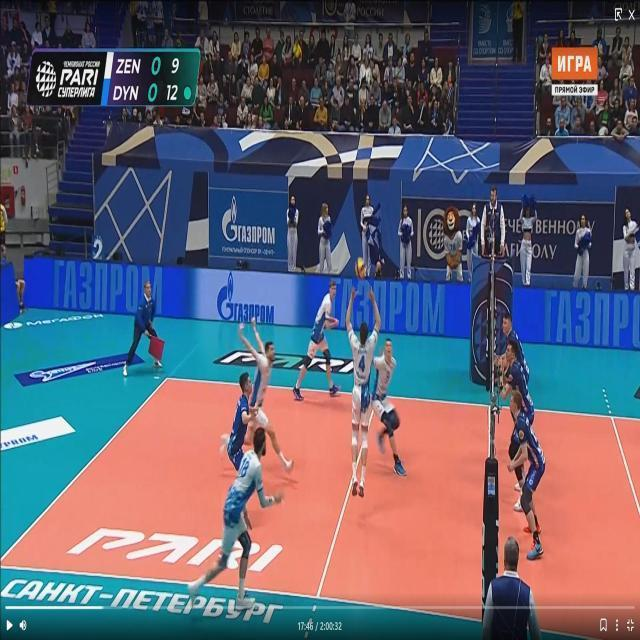volleyball: (354, 258, 366, 278)
